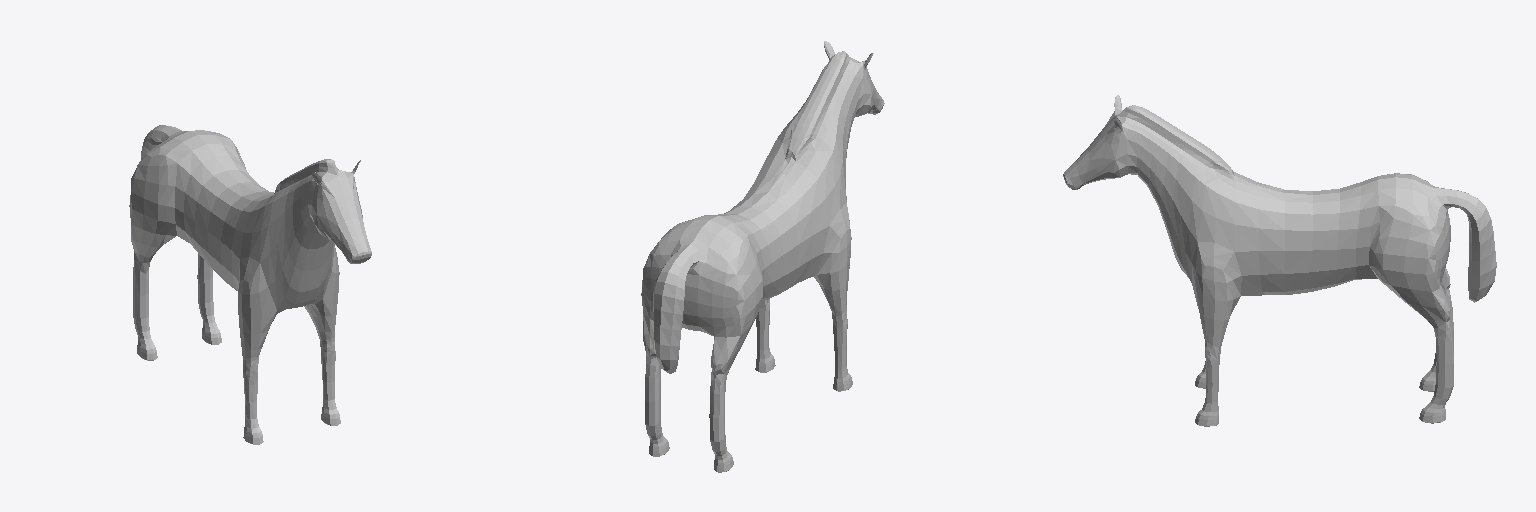
File: HORSE SMOOTH.obj
3 views of the same model, side by side, from view 1: azimuth 30°, elevation 25°; view 2: azimuth 150°, elevation 25°; view 3: azimuth 270°, elevation 25° (orthographic).
Parts seen in each view (by area): view 1: Horse; view 2: Horse; view 3: Horse.
Part boxes in pixels (left/top/right/bottom): Horse: left=129, top=125, right=371, bottom=444; Horse: left=641, top=41, right=884, bottom=472; Horse: left=1063, top=95, right=1496, bottom=426.
Bounding box in the file's own units: 247 × 689 × 903.